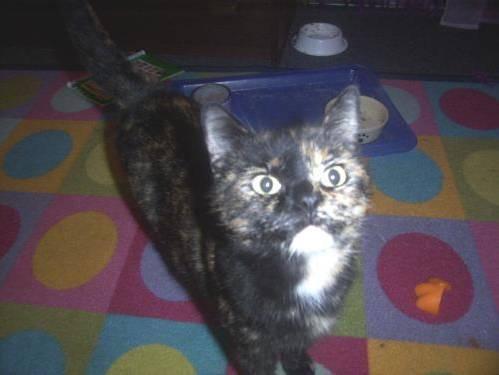cat: (63, 2, 368, 374)
